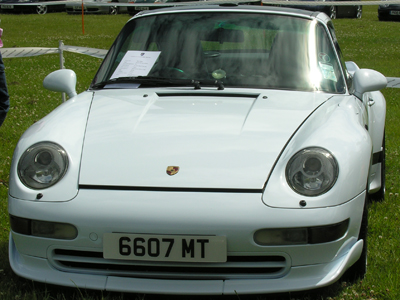licencePlate: (102, 235, 228, 265)
